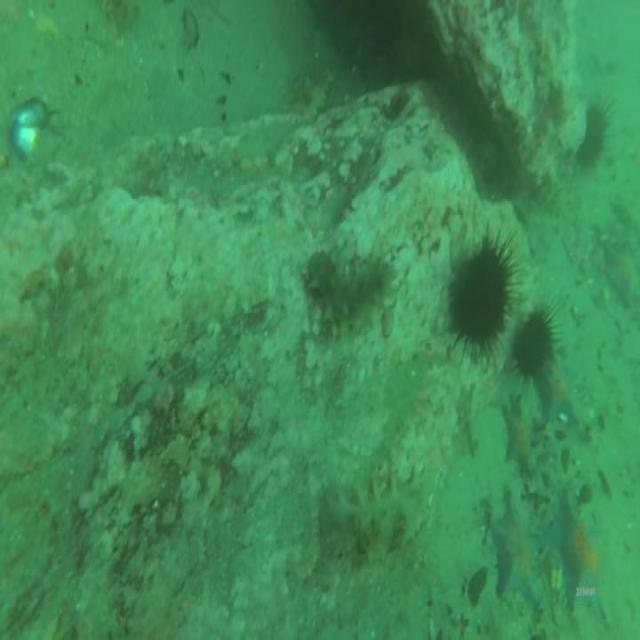echinus: (444, 228, 521, 368), (512, 295, 568, 381), (578, 95, 615, 177)
holothurian: (325, 463, 431, 563), (302, 245, 398, 340), (297, 60, 338, 125), (526, 169, 579, 218)
starfish: (540, 485, 608, 632), (486, 484, 546, 614), (499, 392, 543, 490), (535, 351, 582, 428), (601, 229, 640, 310)
